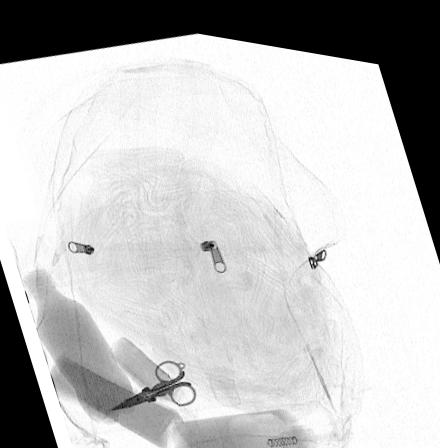Scissors: (108, 352, 195, 407)
